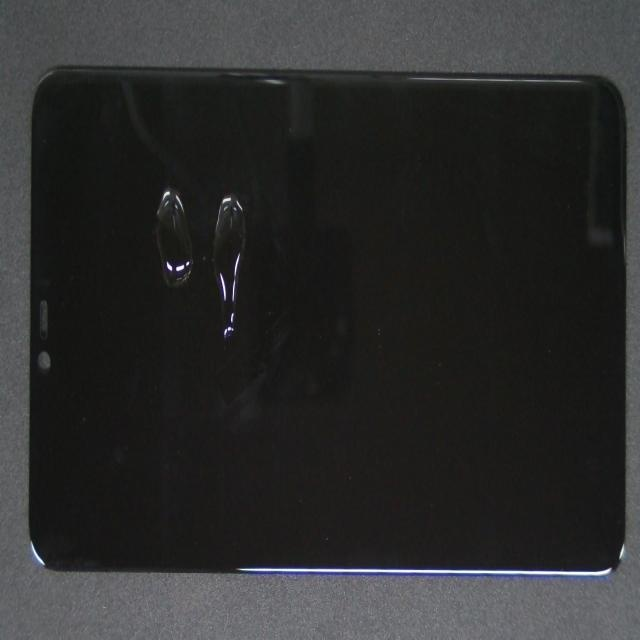oil: (131, 32, 332, 316), (93, 59, 238, 288)
